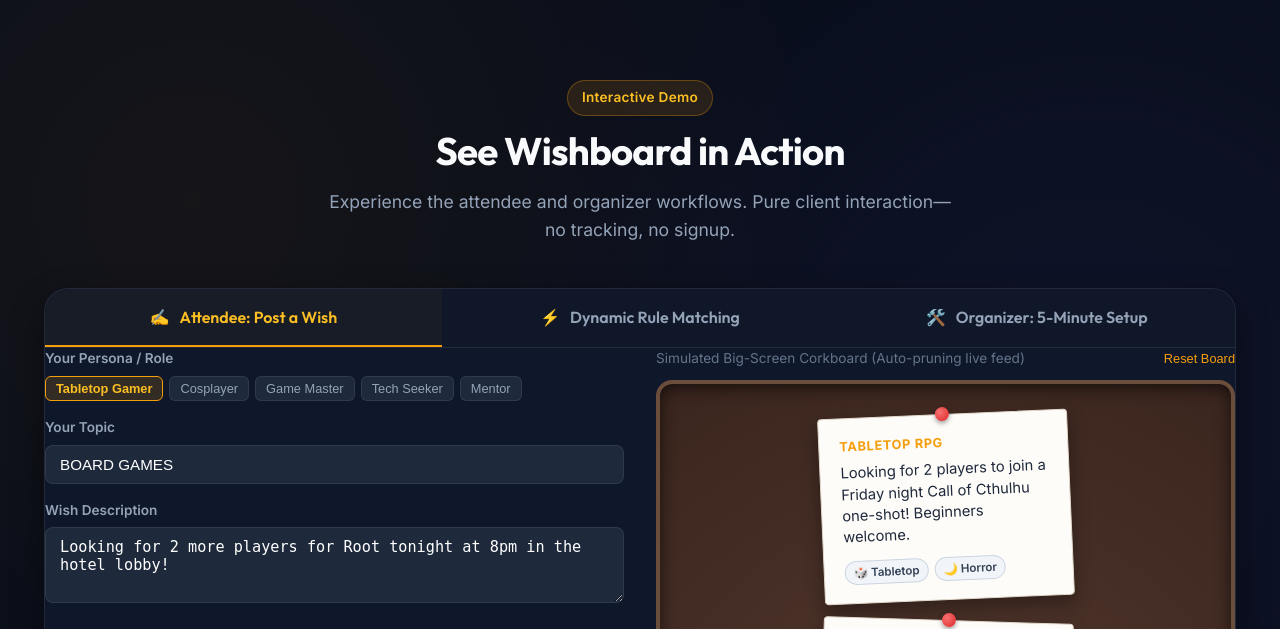
Test case: InteractiveSandbox › allows creating and pinning a wish on the corkboard
Replace the text in the field with placeholder "e.g. BOARD GAMES, COSPLAY, MENTORSHIP" with "RETRO GAMING" at [334, 464], box [45, 445, 624, 484]
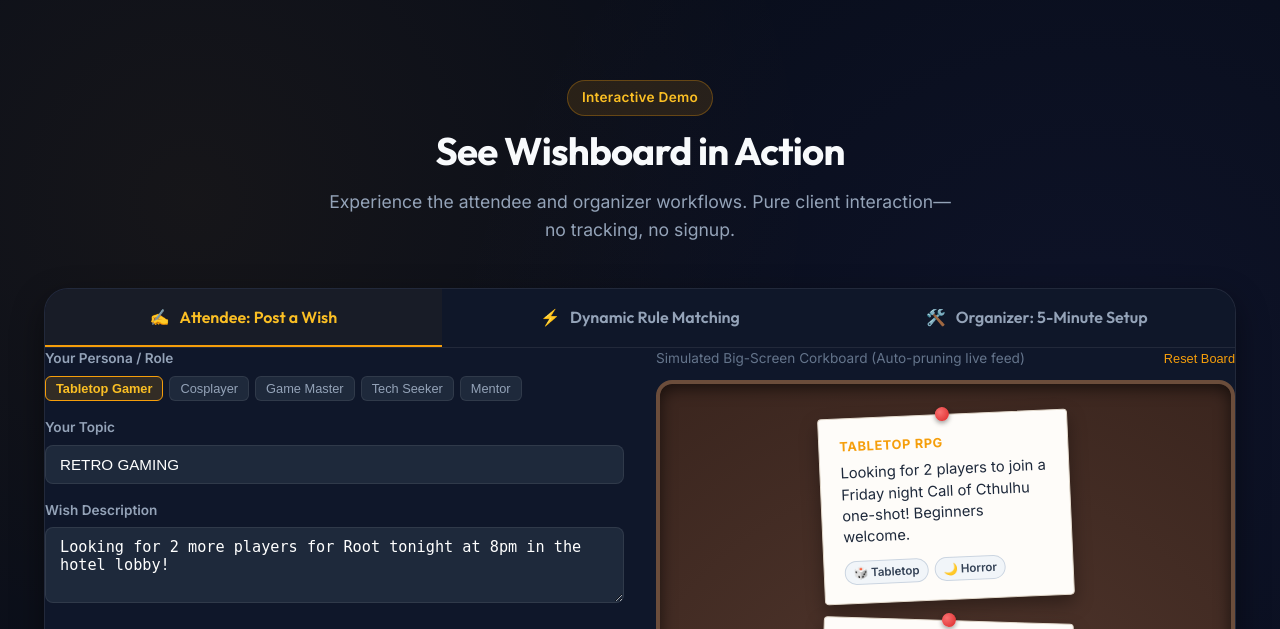
Replace the text in the text box with placeholder "What are you hoping to find or offer?" with "Looking for a Mario Kart 64 rival!" at [334, 565], box [45, 527, 624, 603]
(page scrolled)
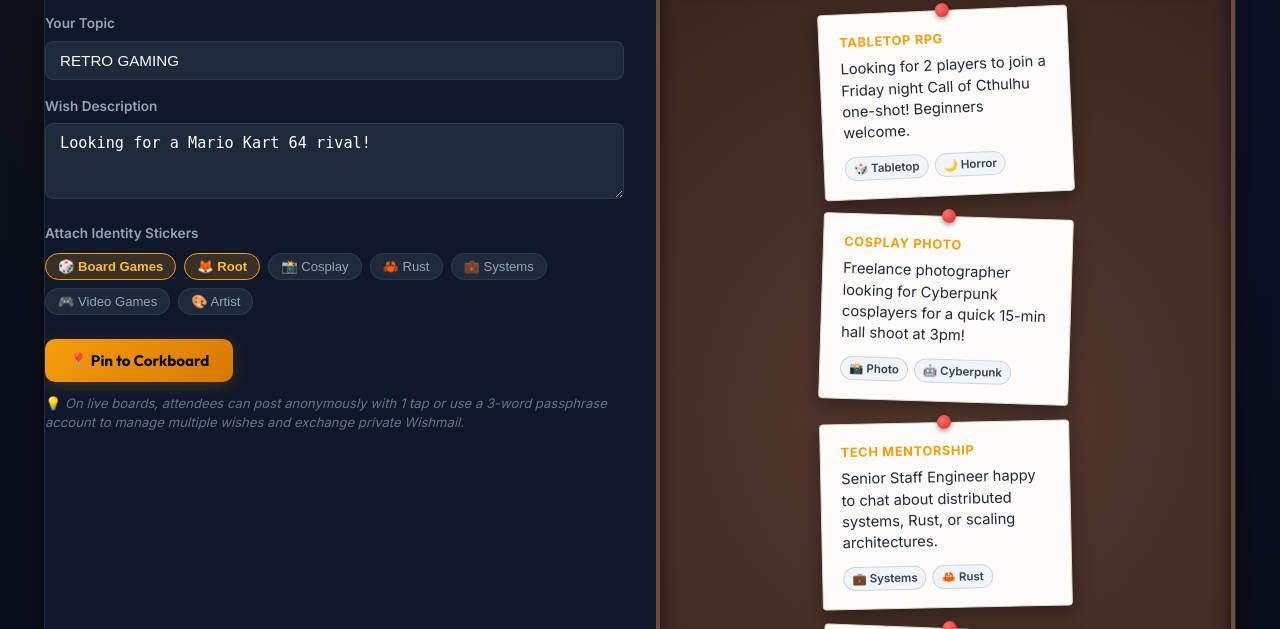
// Click pin button
Click the button "📍 Pin to Corkboard" at [139, 360], box [45, 339, 233, 382]
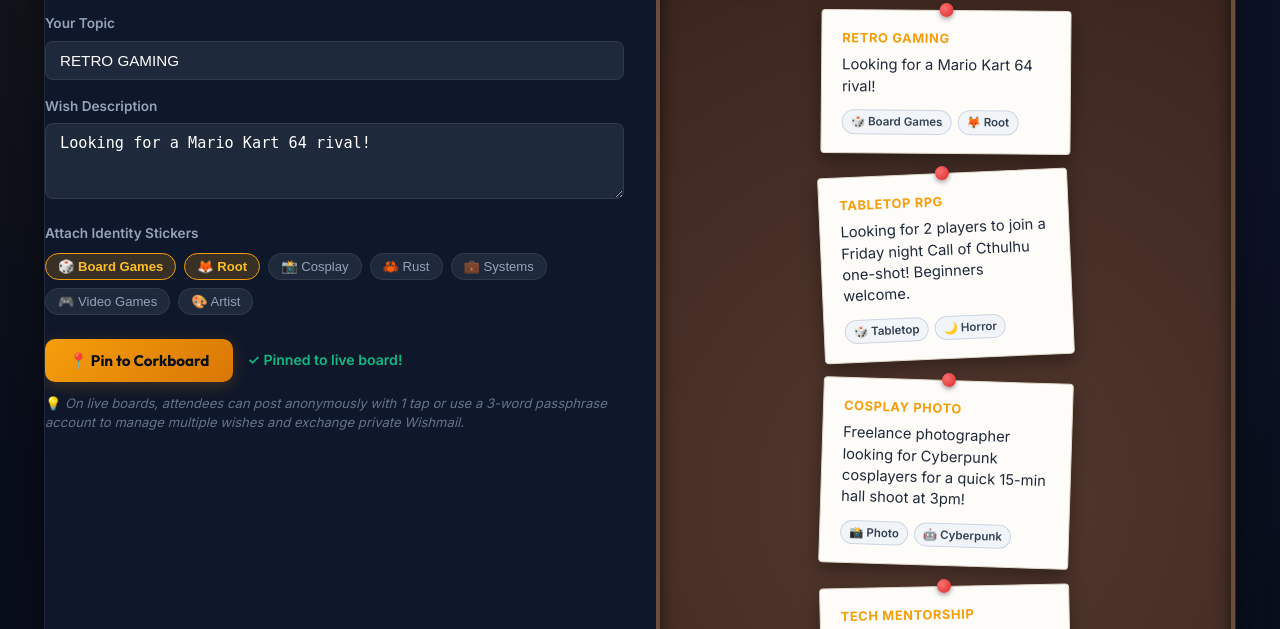
Expected: the text "✓ Pinned to live board!" is shown, [247, 349, 402, 371]
Expected: the text "RETRO GAMING" is shown, [842, 30, 949, 46]
